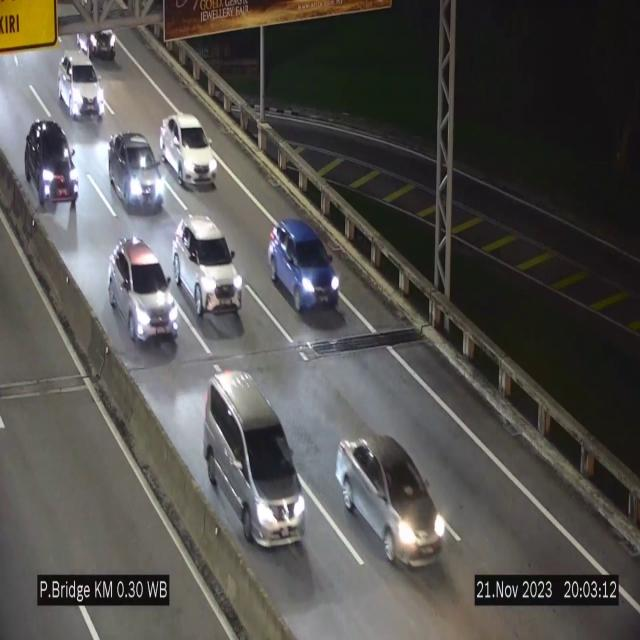Car: (204, 372, 306, 546), (334, 432, 446, 576), (172, 216, 244, 332), (109, 239, 179, 348), (269, 218, 339, 311), (25, 113, 83, 209), (109, 134, 165, 212), (160, 114, 217, 187), (59, 52, 104, 120)
